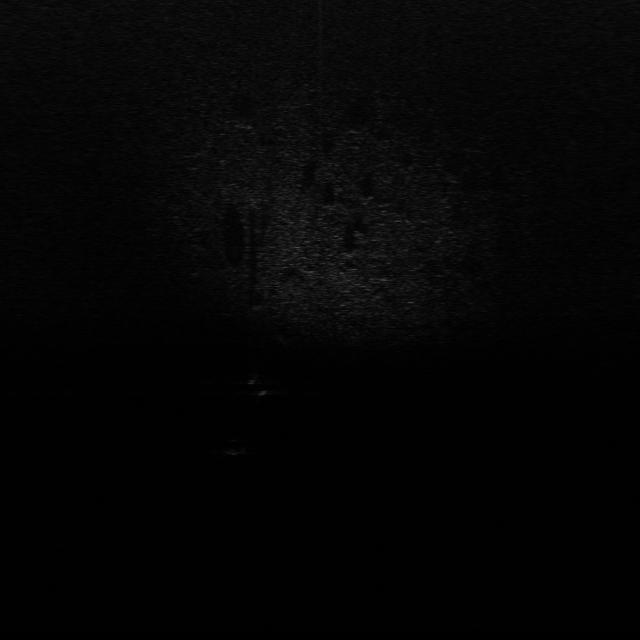ball: (222, 434, 249, 459)
human body: (240, 370, 280, 401)
